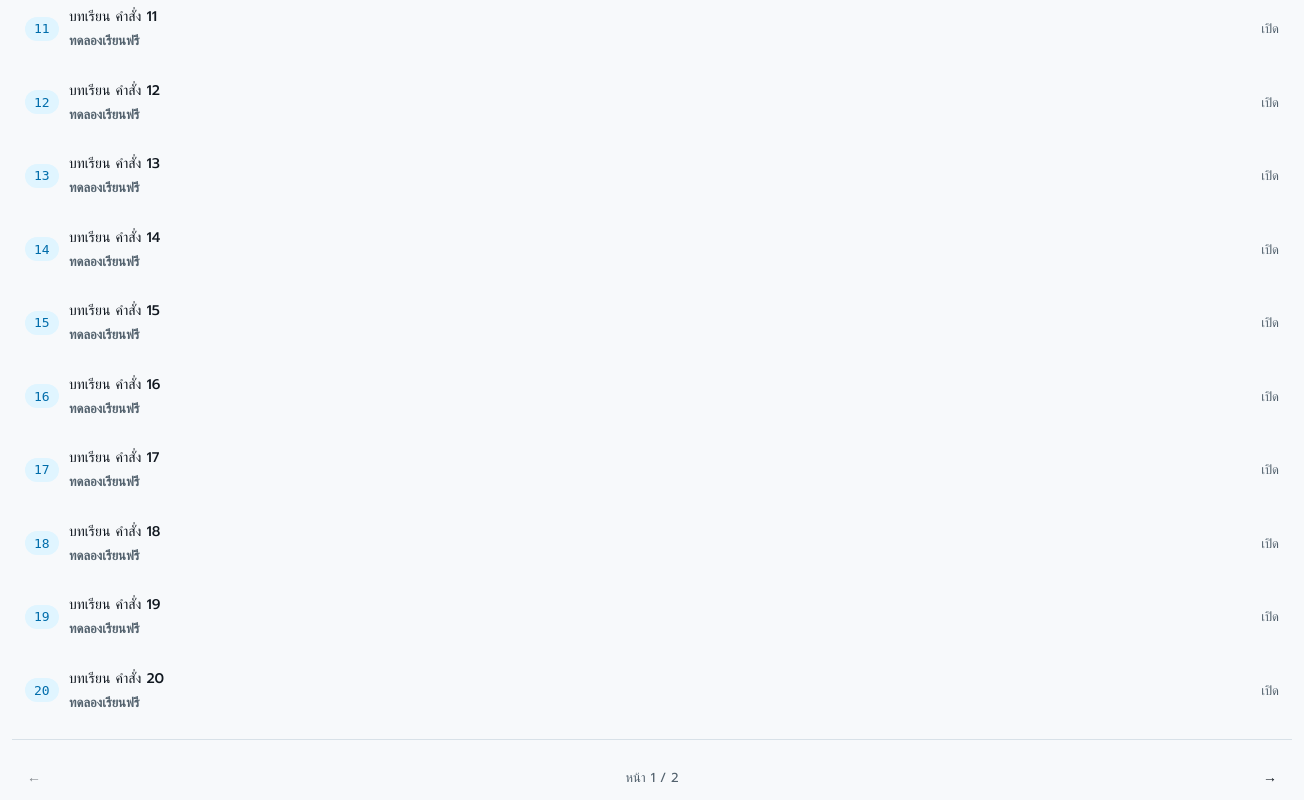
Test case: Thai curriculum search and pagination › bounds 21 matching lessons to 20 per page
(page scrolled)
Click the button named "หน้าบทเรียนถัดไป" at x=1270, y=778, box [1248,756,1292,799]
(page scrolled)
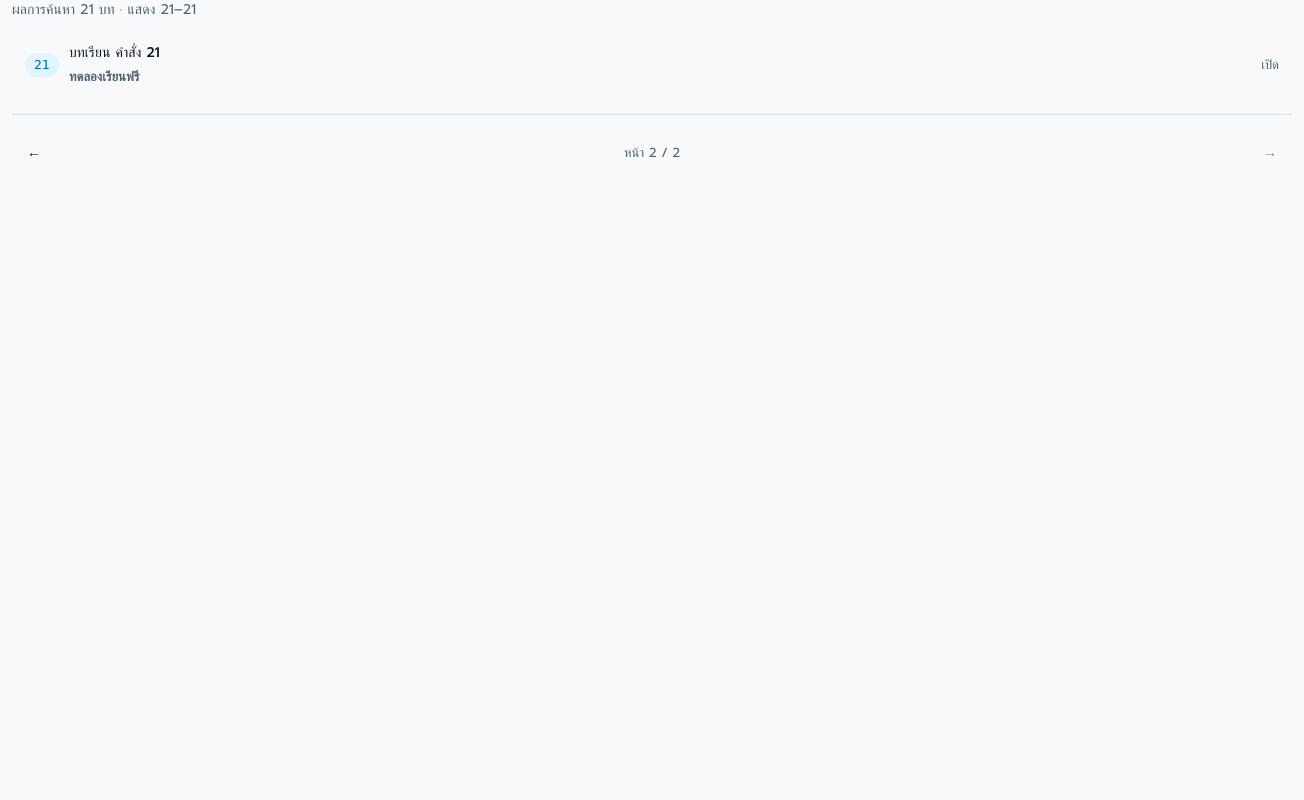
expect the number of links is 1: met, box [12,32,1292,98]
